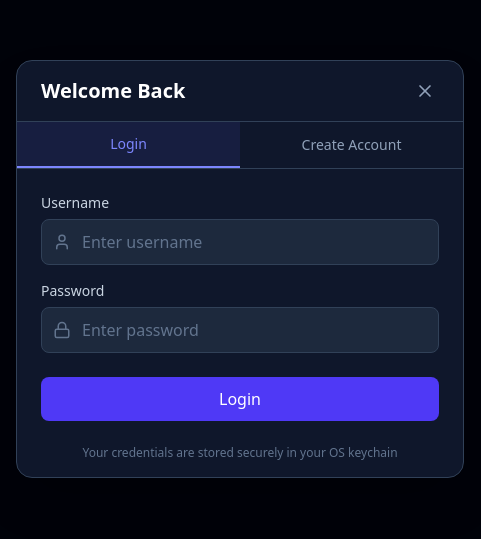
LoginModal › should switch between login and create account tabs
Click the button "Create Account" at [352, 145], box top-left (240, 122), bottom-right (463, 168)
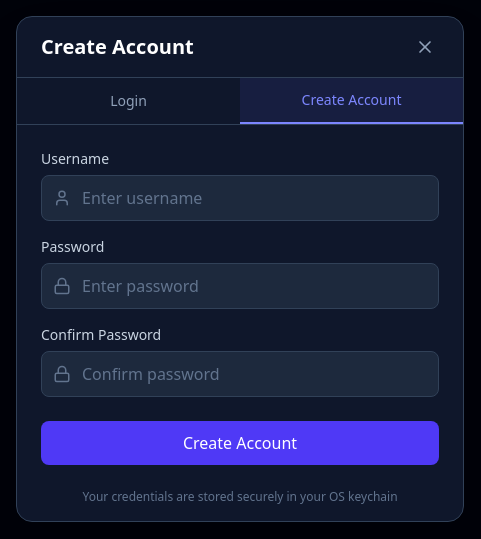
Check: the text "Confirm Password" is shown, box top-left (41, 325), bottom-right (161, 344)
Click the button "Login" at [128, 101], box top-left (17, 78), bottom-right (240, 124)
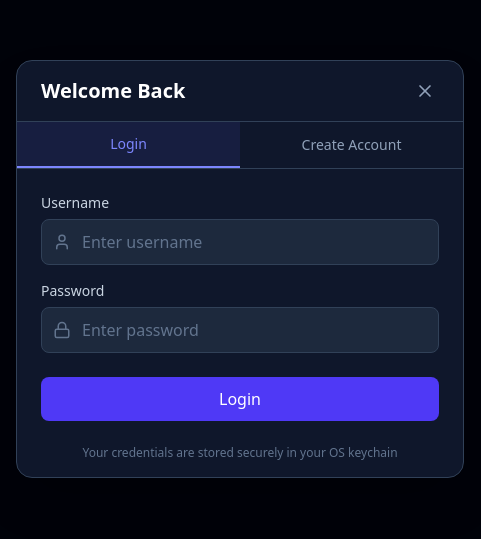
Check: the text "Confirm Password" is gone
